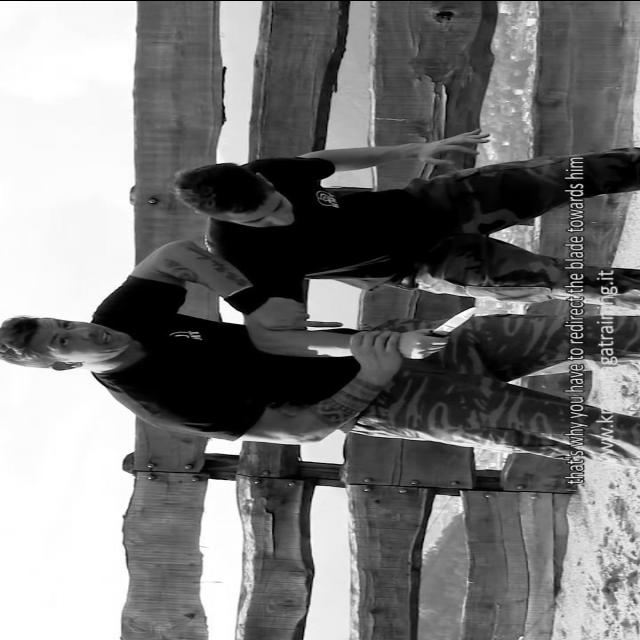Knife: (402, 302, 484, 359)
